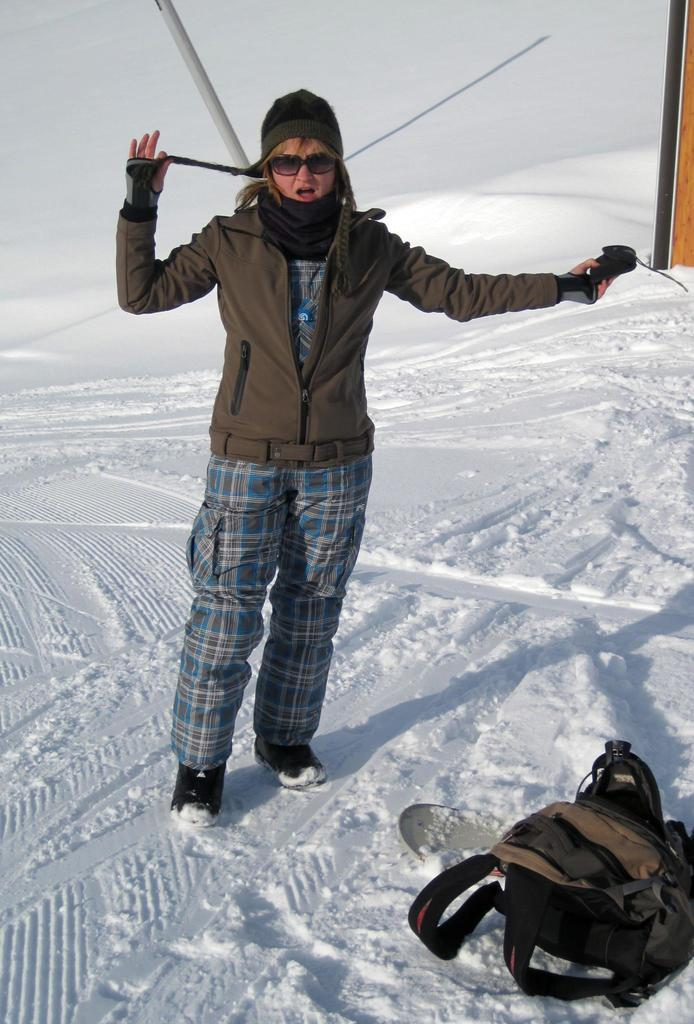no_helmet: (284, 83, 347, 148)
none: (250, 210, 383, 480)
